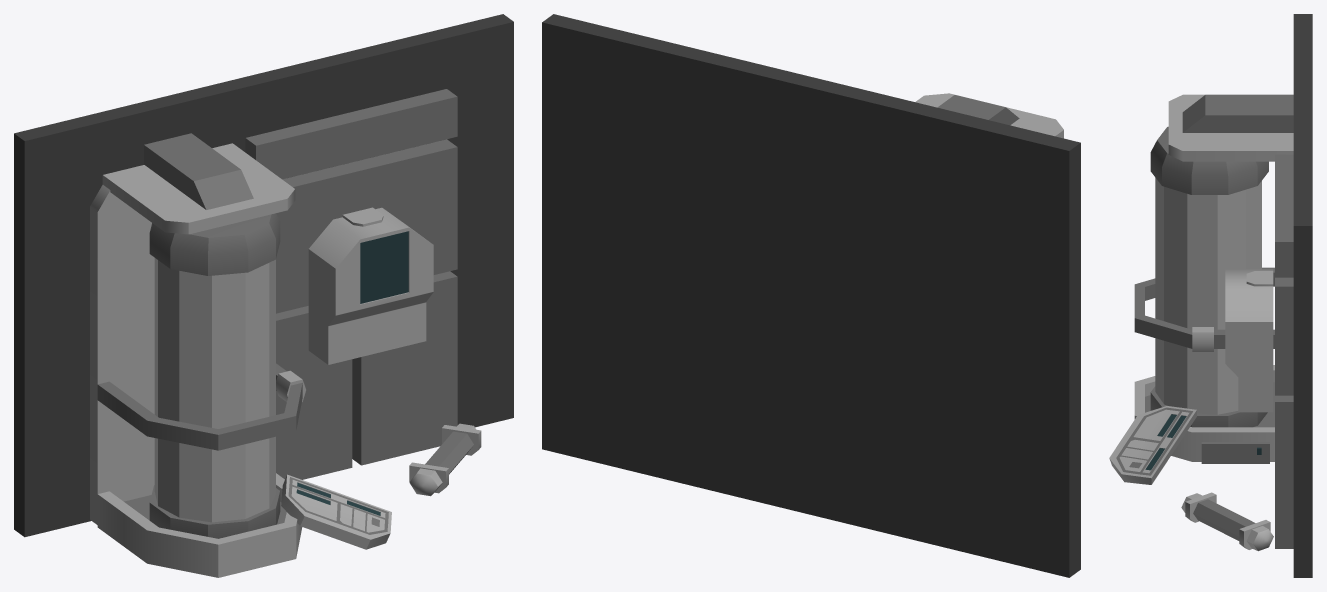
The model's file is Medicalbay_Broken.fbx.
The picture shows the model from 3 angles, left to right: view 1: azimuth 30°, elevation 25°; view 2: azimuth 150°, elevation 25°; view 3: azimuth 270°, elevation 25°; orthographic projection. The views are drawn at different scales.
Visible parts, largest first — view 1: pCube11, pCylinder9, pCube12, medicalbay_broken_pCube7, medicalbay_broken_pCube9, polySurface1, pCube6, medicalbay_broken_pCube8, polySurface3, pCube13, pCylinder6, polySurface5 (+7 smaller); view 2: pCube11, pCube13, pCube14; view 3: pCylinder9, pCube11, polySurface1, pCube13, pCube14, pCylinder6, polySurface7, medicalbay_broken_pCube9, polySurface3, pCube6, medicalbay_broken_pCube7, polySurface5 (+10 smaller).
Boxes of the visible parts, bbox=[...] form: pCube11: bbox=[14, 14, 513, 537]; pCylinder9: bbox=[154, 258, 275, 522]; pCube12: bbox=[90, 185, 154, 524]; medicalbay_broken_pCube7: bbox=[276, 139, 457, 313]; medicalbay_broken_pCube9: bbox=[352, 271, 457, 465]; polySurface1: bbox=[308, 207, 433, 364]; pCube6: bbox=[245, 89, 457, 179]; medicalbay_broken_pCube8: bbox=[276, 306, 352, 479]; polySurface3: bbox=[97, 473, 302, 577]; pCube13: bbox=[102, 143, 295, 234]; pCylinder6: bbox=[149, 213, 280, 275]; polySurface5: bbox=[97, 363, 302, 450]; pCube11: bbox=[542, 14, 1080, 577]; pCube13: bbox=[915, 93, 1063, 138]; pCube14: bbox=[937, 95, 1019, 125]; pCylinder9: bbox=[1155, 178, 1261, 414]; pCube11: bbox=[1293, 14, 1312, 577]; polySurface1: bbox=[1225, 269, 1273, 412]; pCube13: bbox=[1168, 94, 1293, 161]; pCube14: bbox=[1182, 94, 1293, 132]; pCylinder6: bbox=[1150, 126, 1268, 194]; polySurface7: bbox=[1109, 406, 1196, 484]; medicalbay_broken_pCube9: bbox=[1275, 395, 1293, 548]; polySurface3: bbox=[1134, 365, 1274, 461]; pCube6: bbox=[1275, 154, 1293, 277]; medicalbay_broken_pCube7: bbox=[1275, 277, 1293, 395]; polySurface5: bbox=[1134, 267, 1274, 348].
Size of the model in its own units: 16.19 by 12.56 by 6.56.
